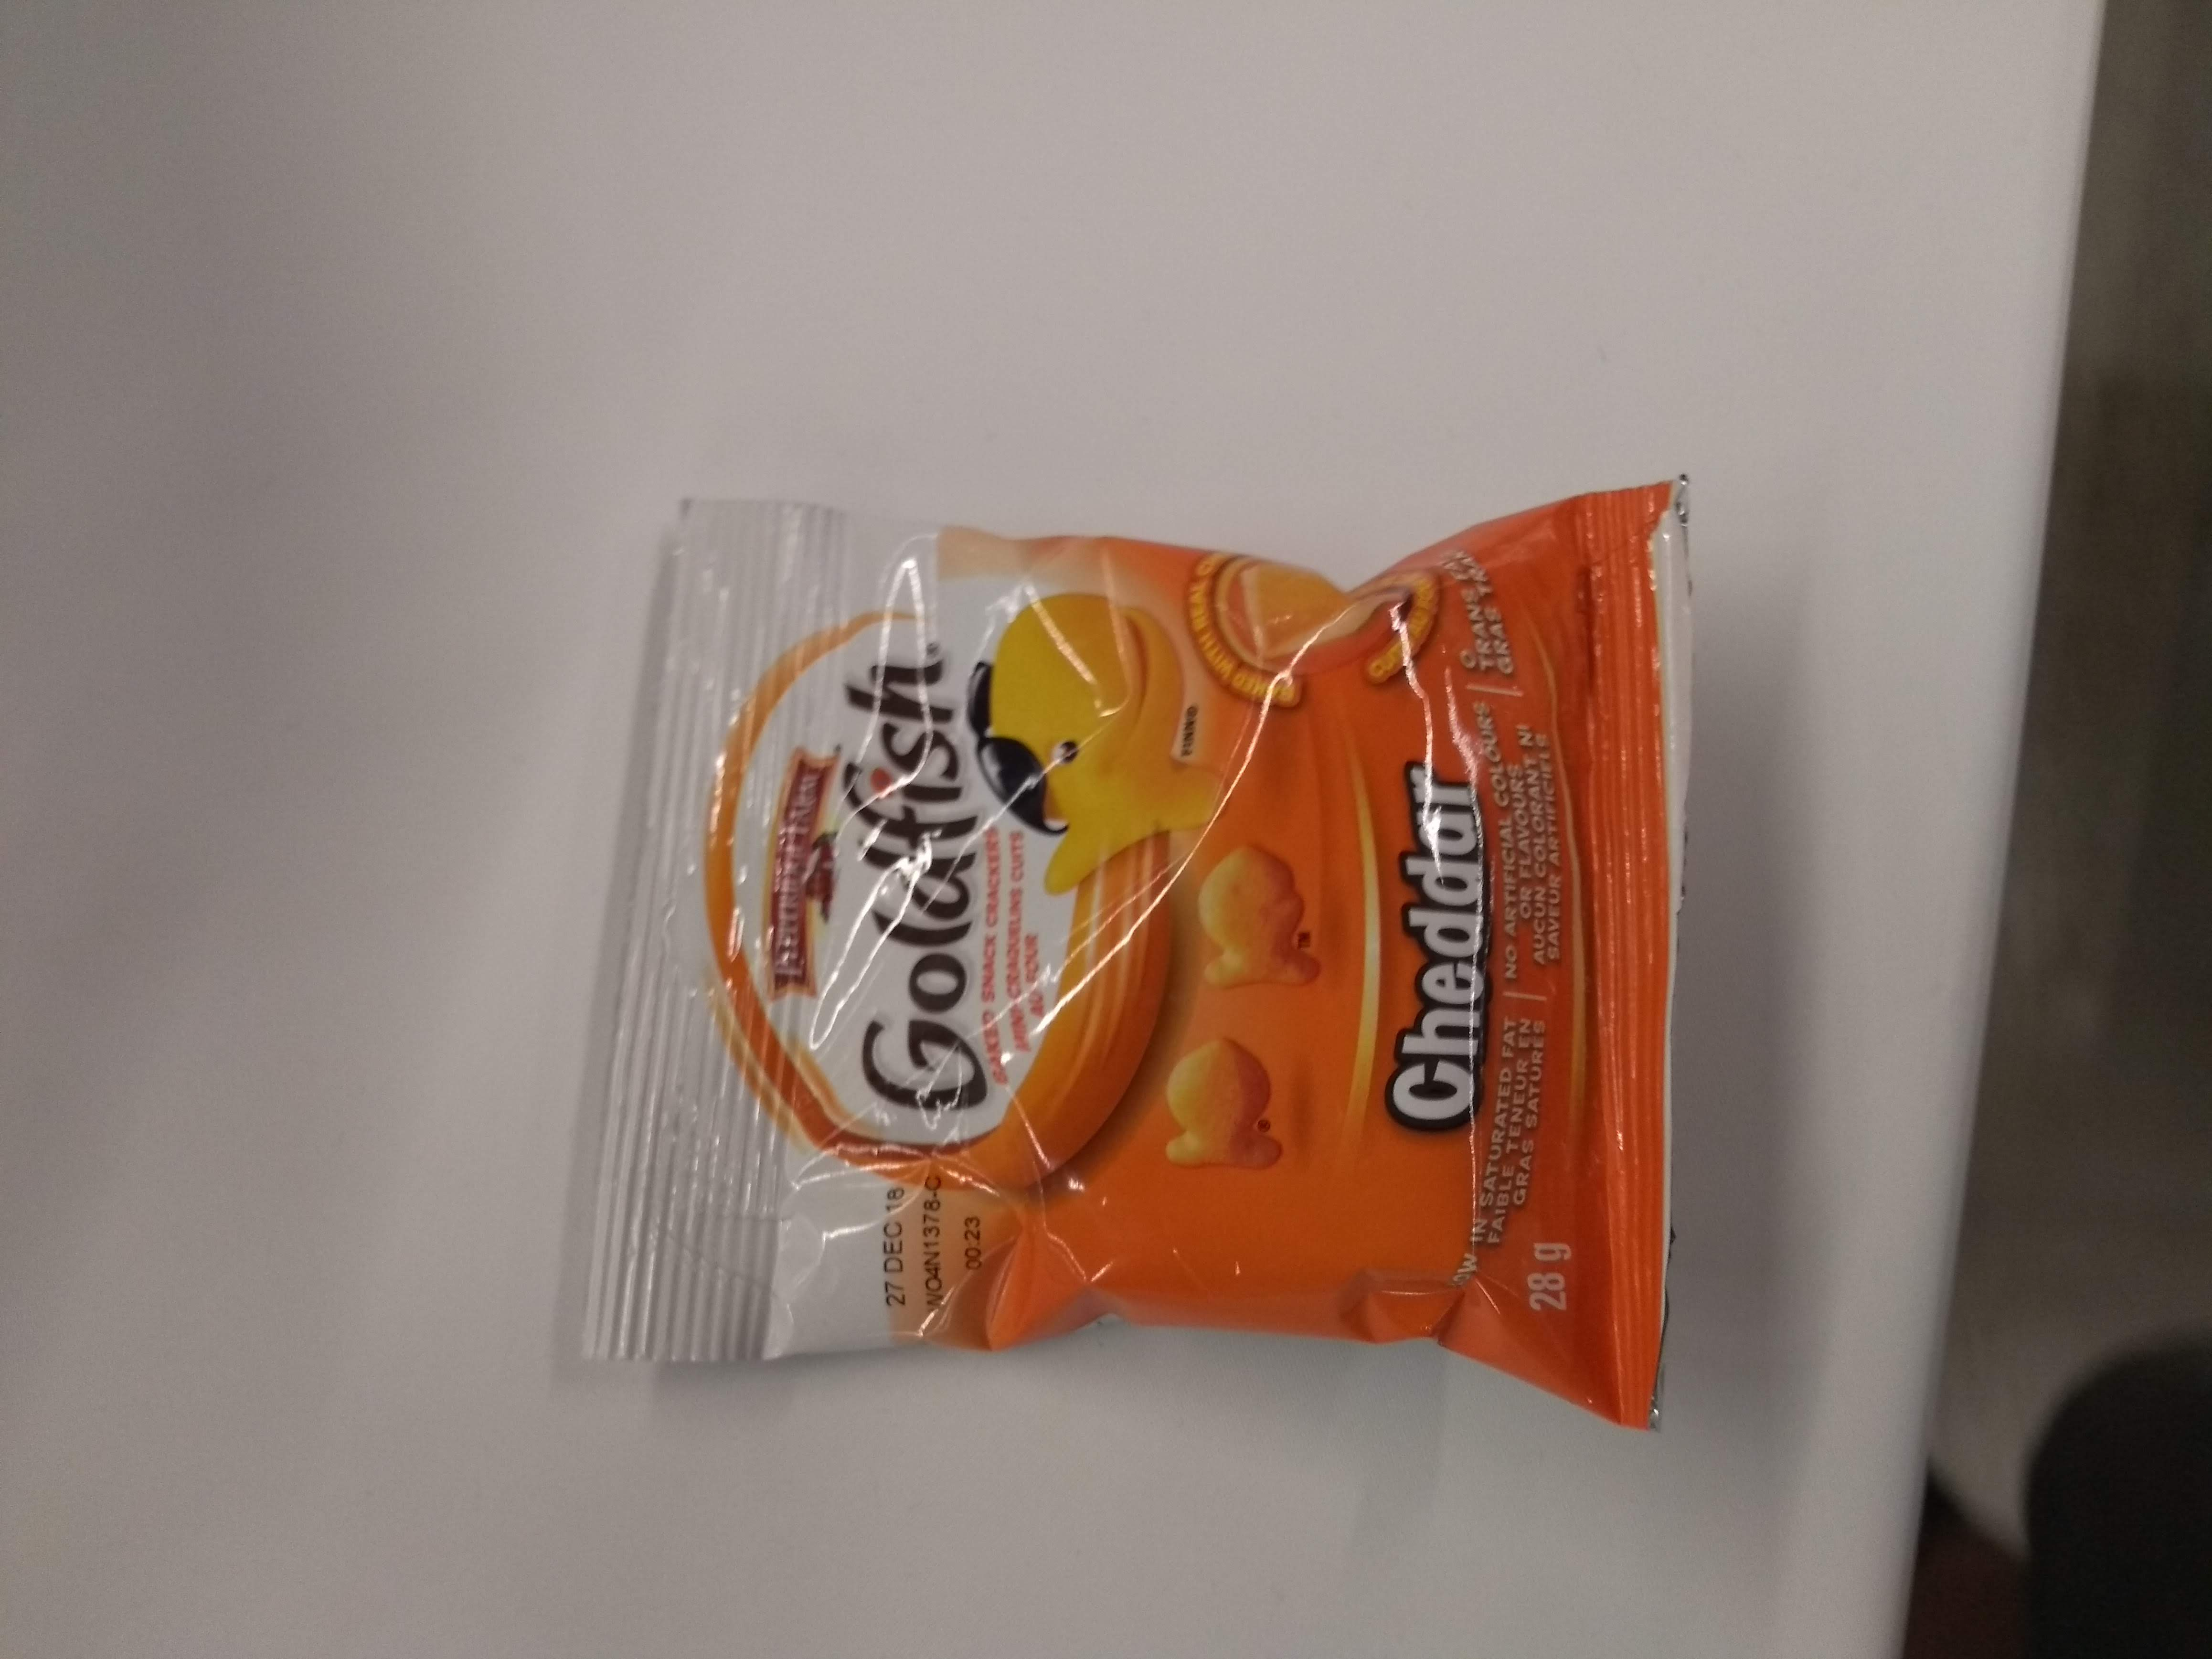crackers: (561, 464, 1707, 1446)
